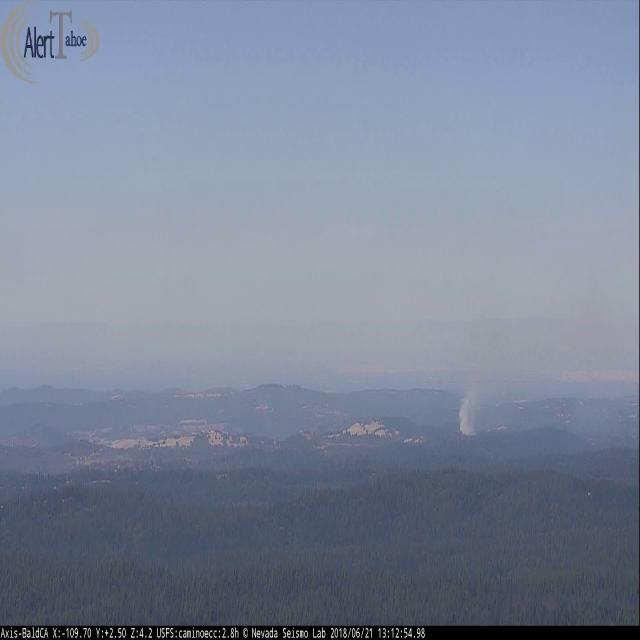smoke: (457, 381, 486, 446)
